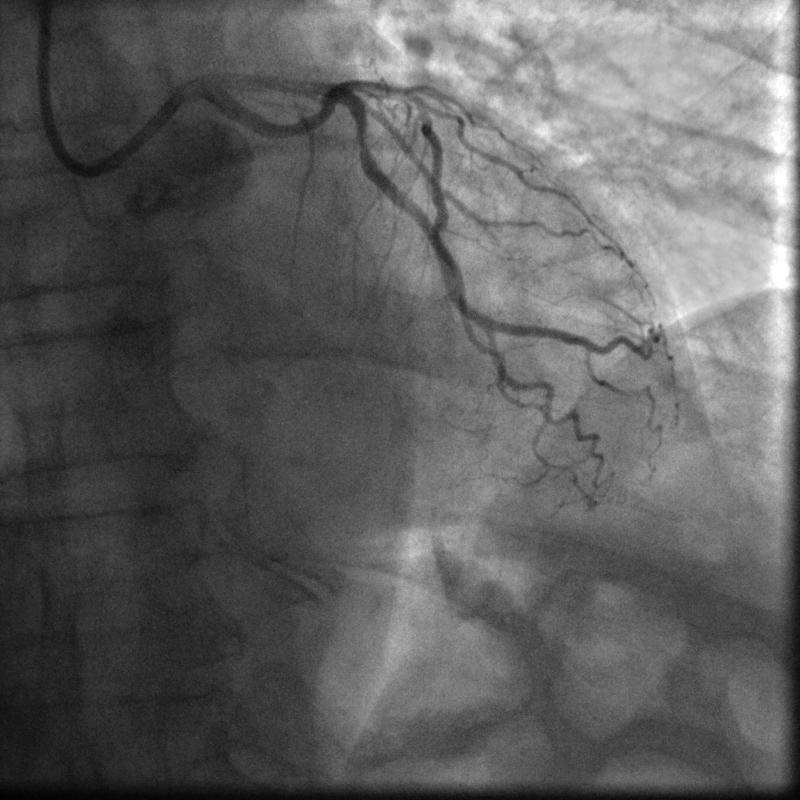Stenosis: (356, 130, 369, 146)
